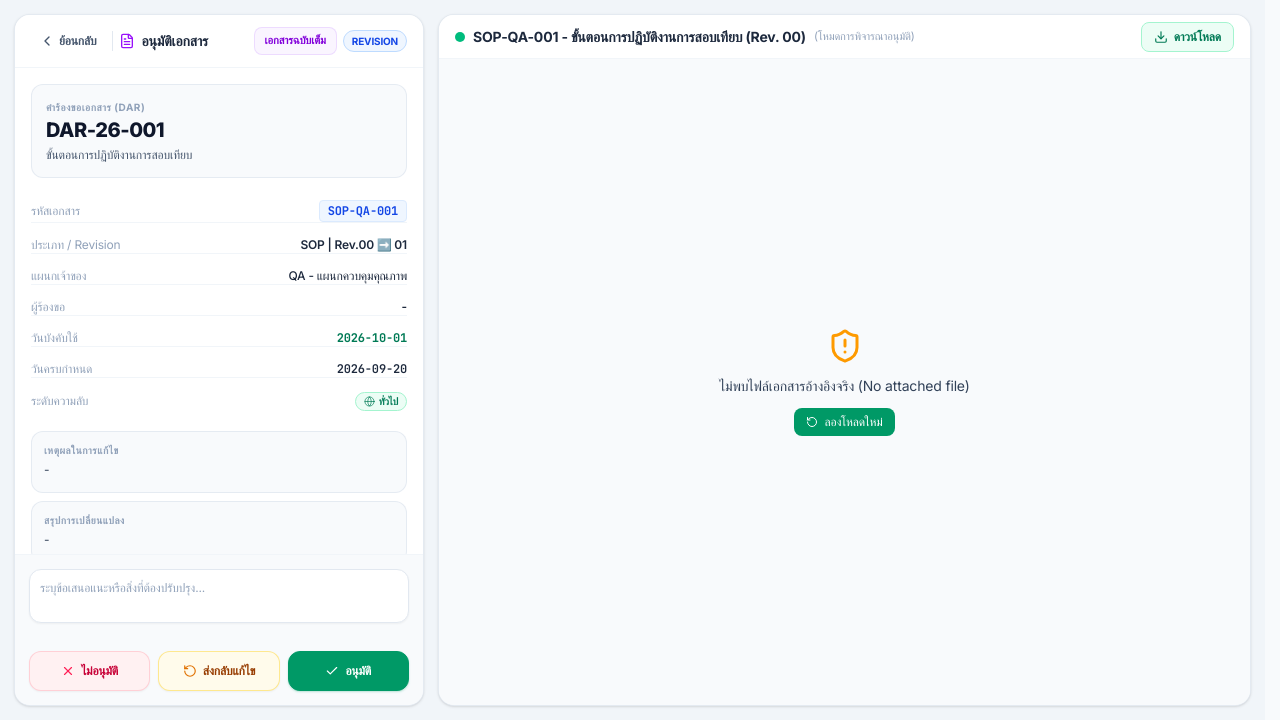
Test case: TaskApprove & TaskReview Runtime Verification (Zero WSOD & No motion errors) › displays Approval Completed card when Approver is the absolute final step without DCC
The image size is (1280, 720).
Click the button with aria-label "อนุมัติ (Approve)": (348, 671) [288,651,409,691]
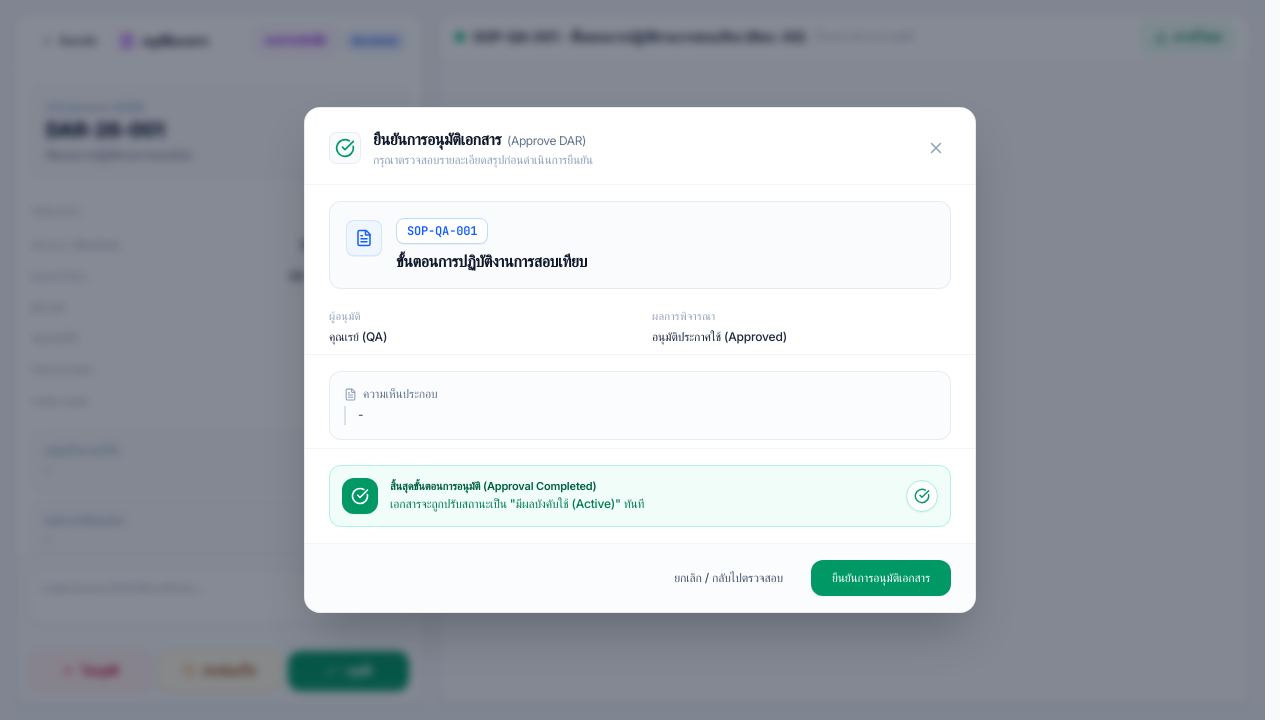
Expected: the text "สิ้นสุดขั้นตอนการอนุมัติ (Approval Completed)" is shown, [390,479,596,493]
Expected: the text "เอกสารจะถูกปรับสถานะเป็น \"มีผลบังคับใช้ (Active)\" ทันที" is shown, [390,496,644,512]
